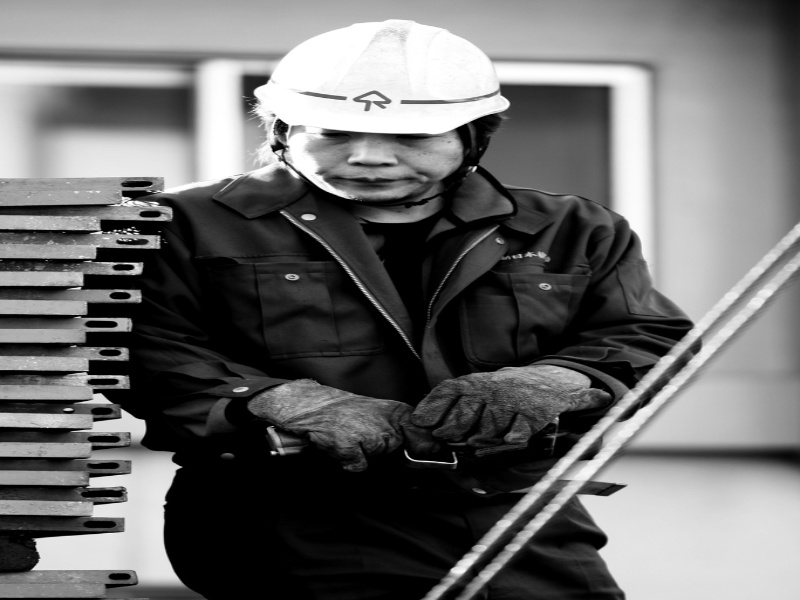Baret: (253, 18, 510, 134)
